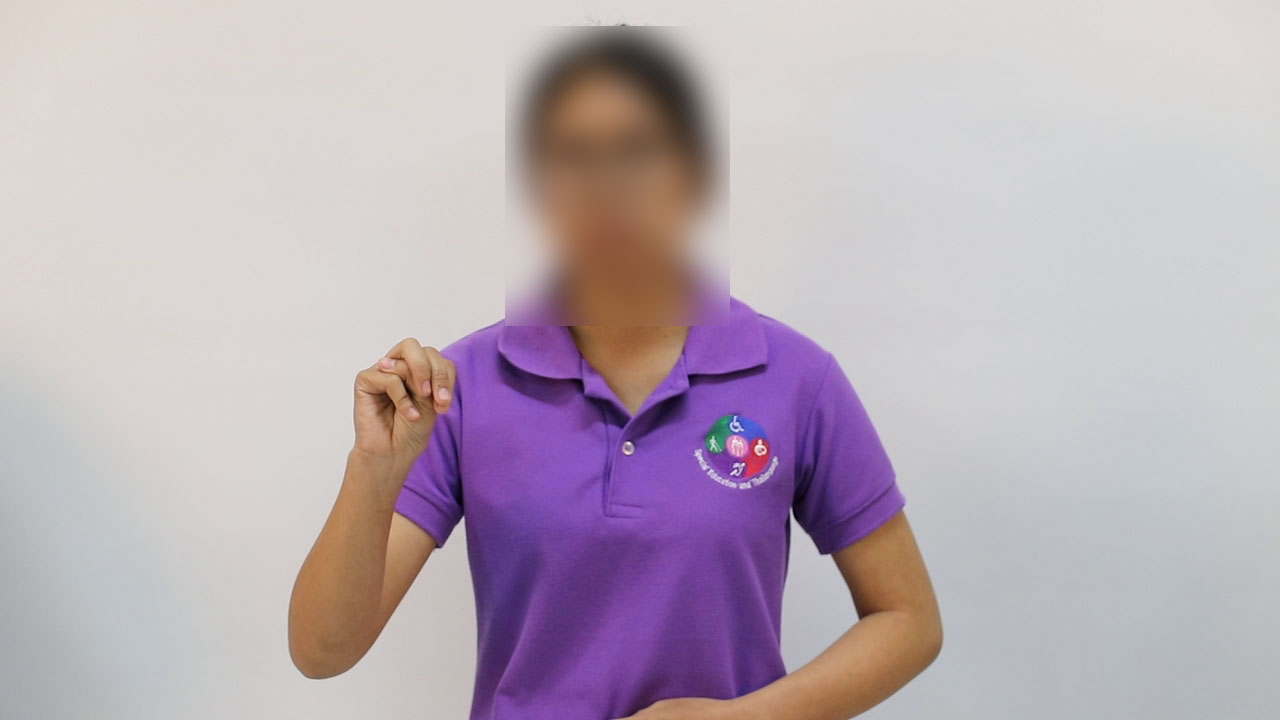mor: (349, 328, 464, 495)
